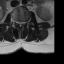CCS_normal: (19, 19, 21, 29)
LFS_normal: (23, 19, 26, 26)
LLS_normal: (21, 19, 23, 26)
RFS_normal: (15, 18, 17, 25)
RLS_normal: (17, 18, 19, 26)
